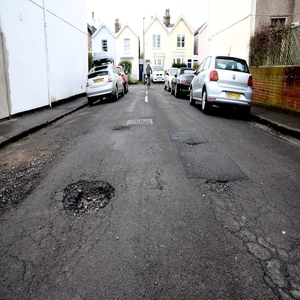pothole: (61, 178, 117, 218)
